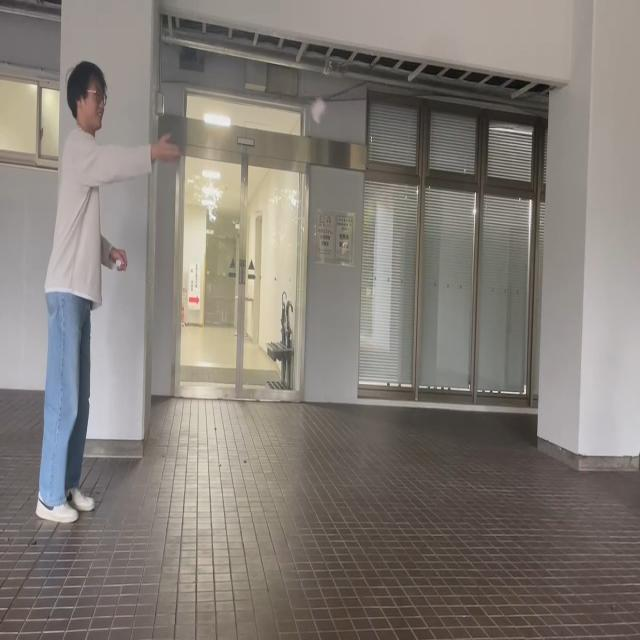paper: (310, 96, 324, 126), (116, 257, 123, 271)
